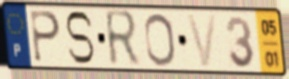3: (224, 14, 256, 70)
O: (143, 12, 178, 68)
P: (29, 8, 63, 65)
R: (103, 8, 143, 70)
S: (63, 10, 96, 67)
V: (185, 13, 219, 70)
